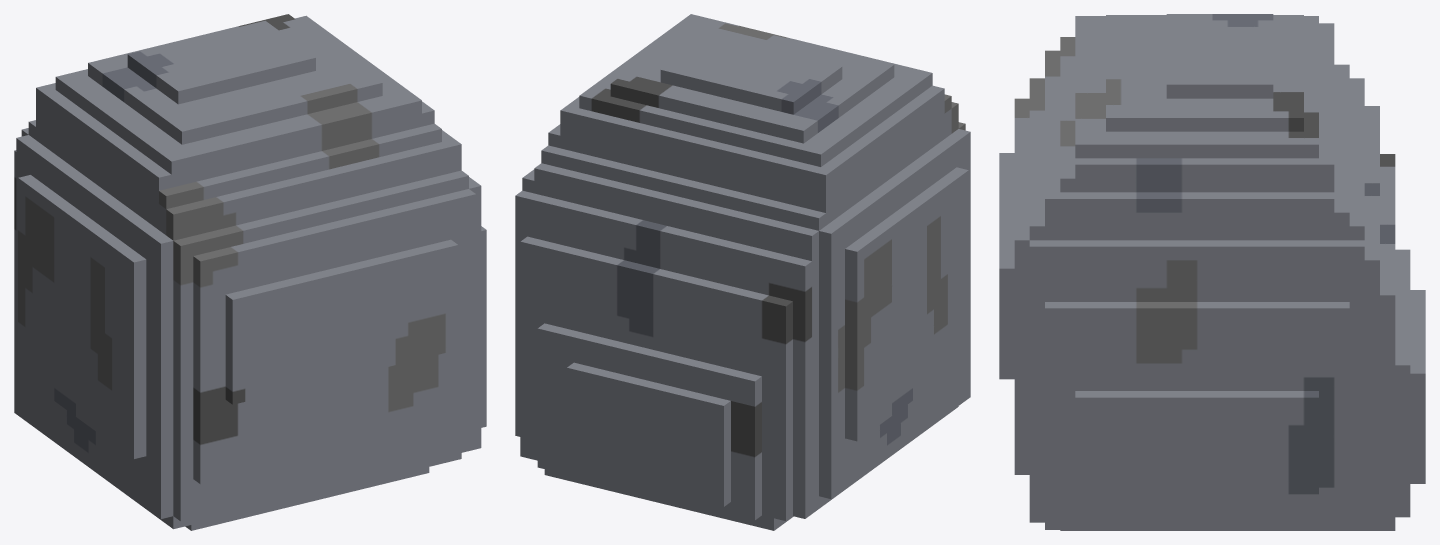
Rendered from roca.fbx.
3 renders of one model, left to right at view 1: azimuth 30°, elevation 25°; view 2: azimuth 150°, elevation 25°; view 3: azimuth 270°, elevation 25°, orthographic. The views are drawn at different scales.
Visible parts, largest first — view 1: Box; view 2: Box; view 3: Box.
Part boxes in pixels (<box>): Box: <box>14,14,486,530</box>; Box: <box>515,14,970,530</box>; Box: <box>999,14,1425,530</box>.
Bounding box in the file's own units: 896 × 960 × 896.
